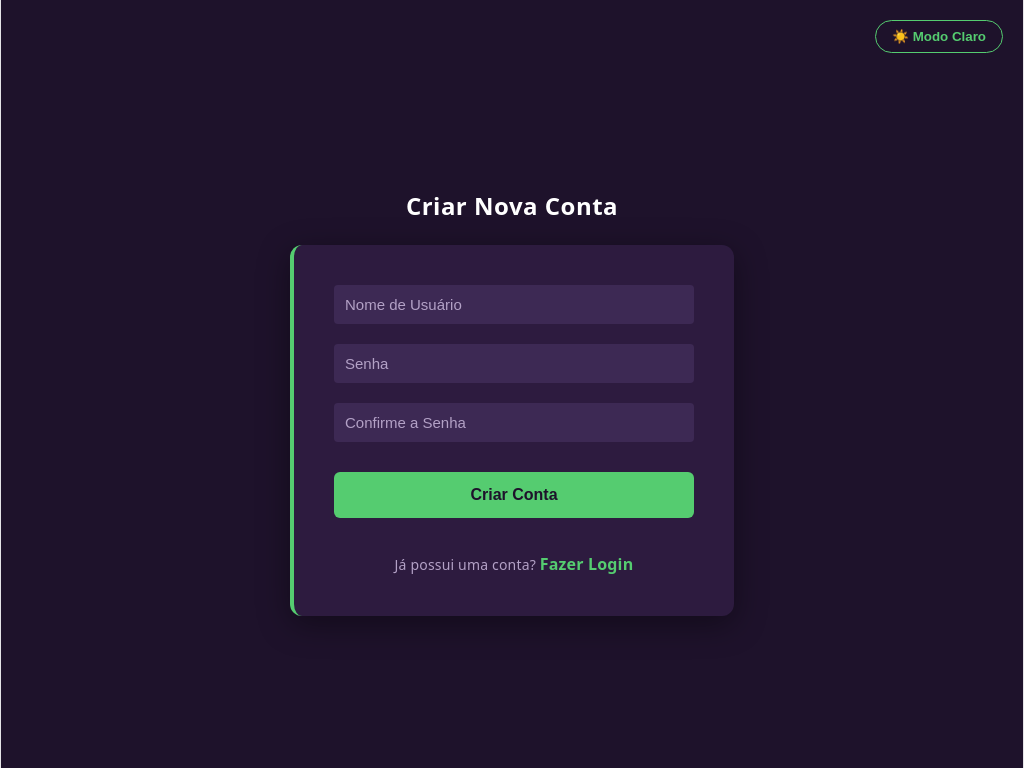
Tela de Cadastro de Usuário › deve interceptar a rejeição do servidor e expor a mensagem de erro correspondente
This screenshot has width=1024, height=768.
In the field with placeholder "Nome de Usuário": (514, 304) 334,285 -> 694,324, type "admin_existente"
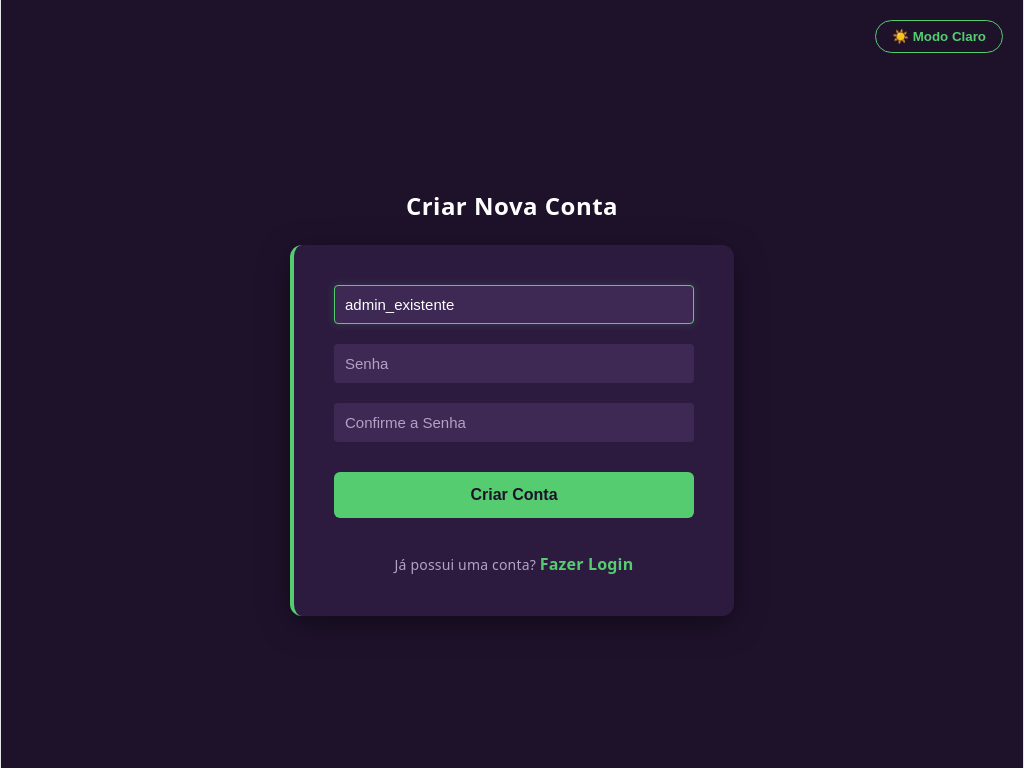
In the password field with placeholder "Senha": (514, 364) 334,344 -> 694,383, type "senha123"
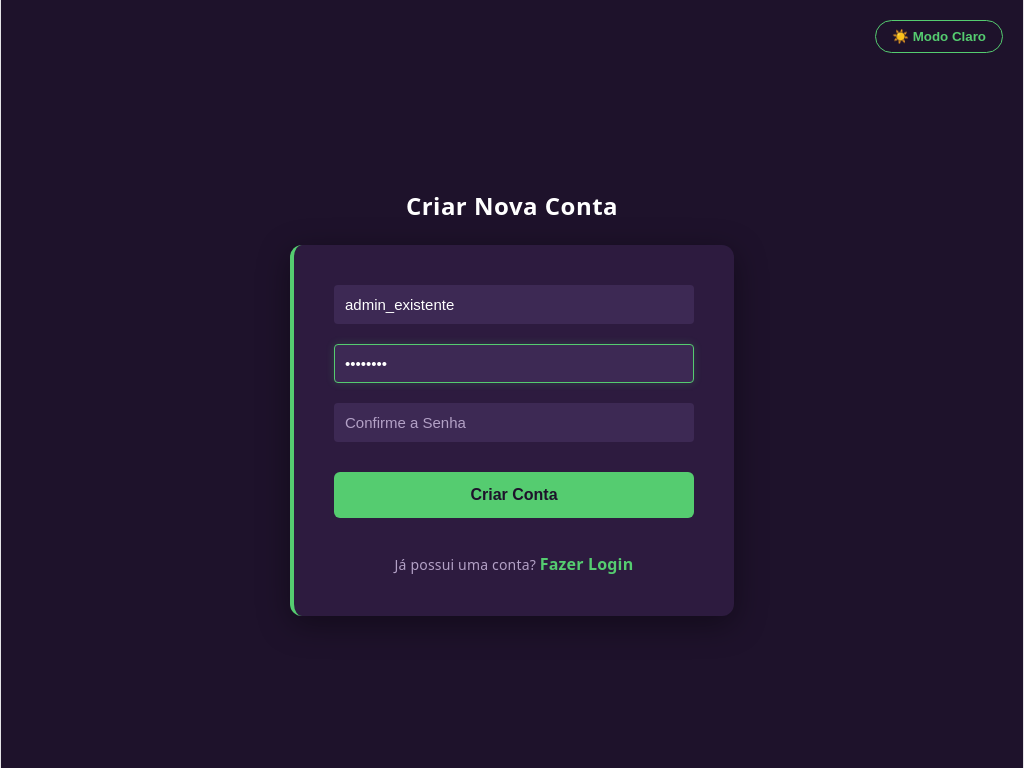
In the password field with placeholder "Confirme a Senha": (514, 422) 334,403 -> 694,442, type "senha123"
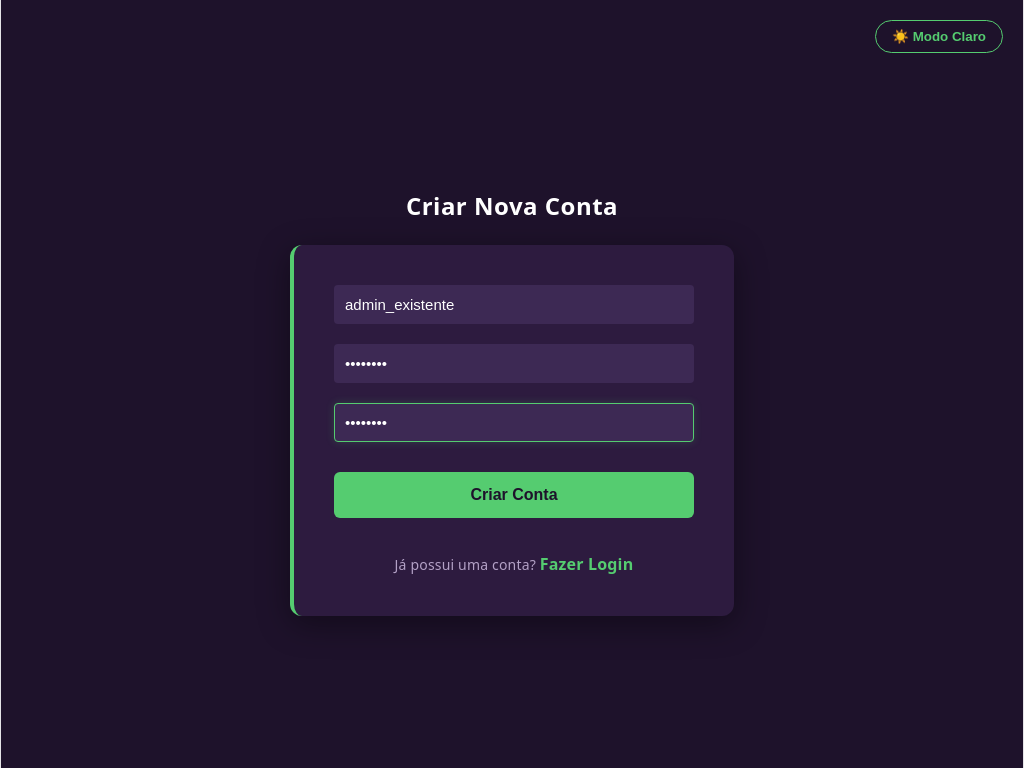
Click the button "Criar Conta": (514, 495) 334,472 -> 694,518
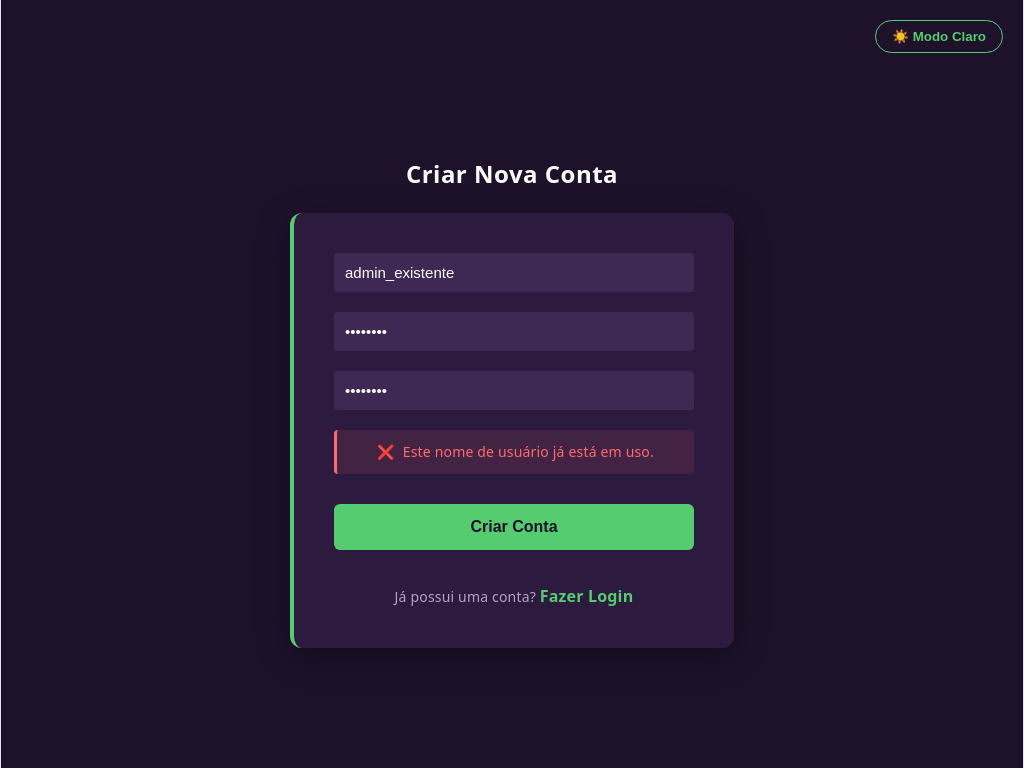
expect the text "Este nome de usuário já está em uso." is shown: met, box 403,442 -> 654,462
